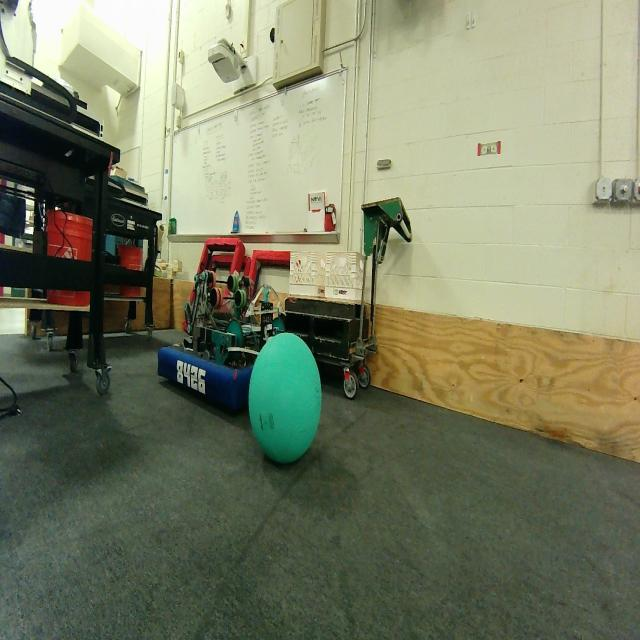algae: (246, 329, 323, 467)
